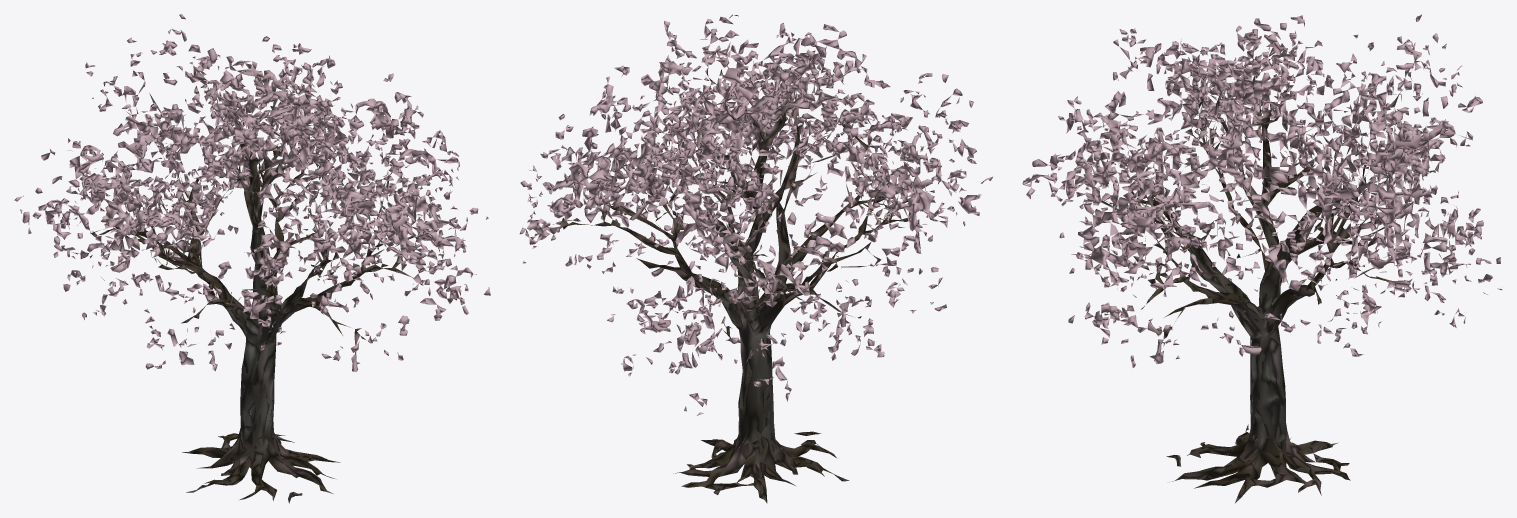
File: sakura_a.1.glb
The picture shows the model from 3 angles, left to right: view 1: azimuth 30°, elevation 25°; view 2: azimuth 150°, elevation 25°; view 3: azimuth 270°, elevation 25°; orthographic projection. The views are drawn at different scales.
Visible parts, largest first — view 1: lod; view 2: lod; view 3: lod.
Boxes of the visible parts, <box> form: lod: <box>14,14,490,503</box>; lod: <box>519,14,992,503</box>; lod: <box>1022,14,1502,503</box>.
Bounding box in the file's own units: 0.9431 × 0.9963 × 0.9629.
